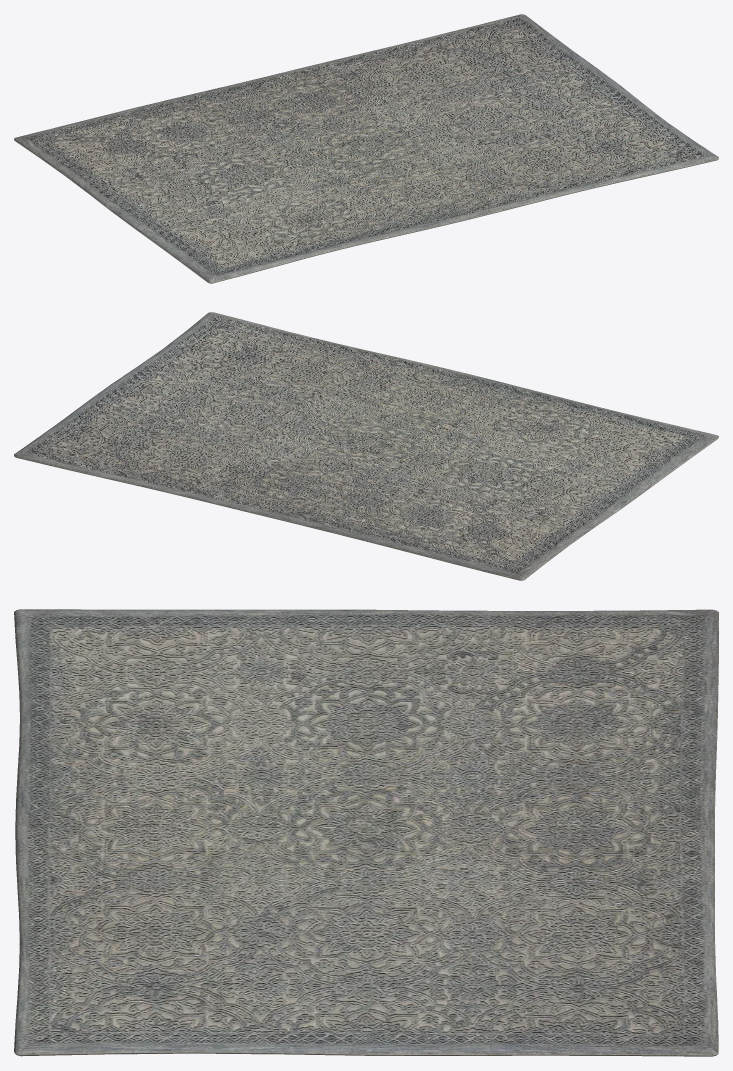
File: abo-B07B4ZQDFD.glb
3 views of the same model, one above another, from view 1: azimuth 30°, elevation 25°; view 2: azimuth 150°, elevation 25°; view 3: azimuth 270°, elevation 25° (orthographic). The views are drawn at different scales.
Size of the model in its own units: 1.83 by 0.016 by 1.22.
Materials: 1 (1 with a texture image).
